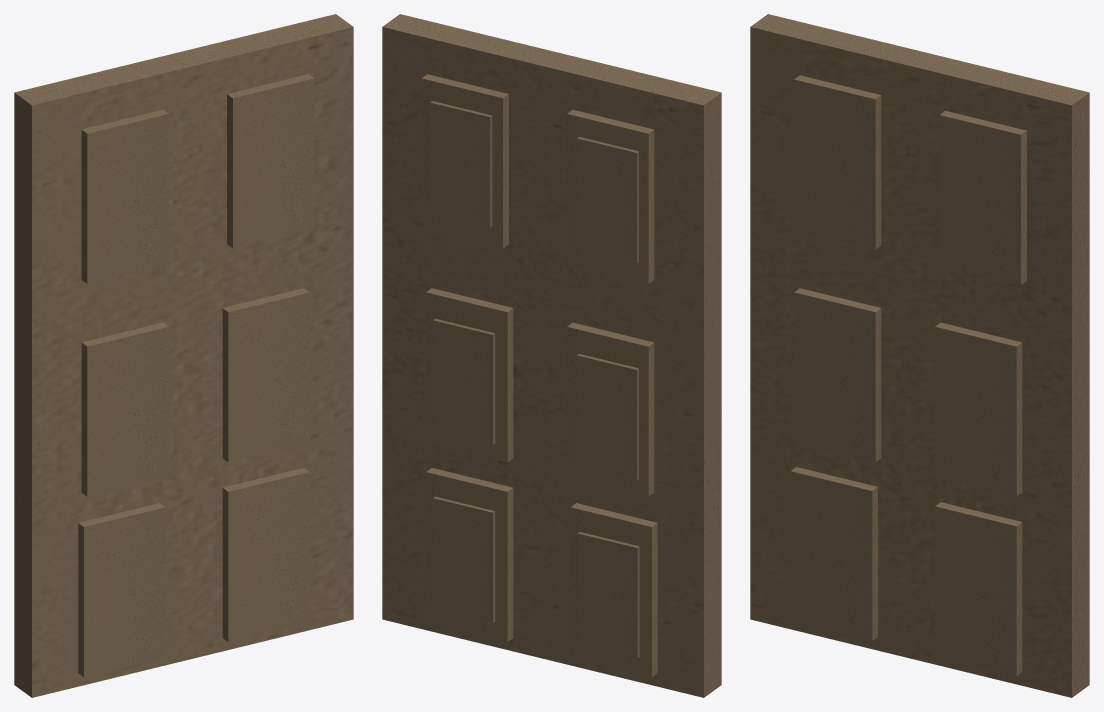
Rendered from porta.obj.
3 views of the same model, side by side, from view 1: azimuth 30°, elevation 25°; view 2: azimuth 150°, elevation 25°; view 3: azimuth 330°, elevation 25° (orthographic).
Visible parts, largest first — view 1: Cubo.007; view 2: Cubo.007; view 3: Cubo.007.
Part boxes in pixels (left/top/right/bottom): Cubo.007: left=14, top=14, right=353, bottom=697; Cubo.007: left=382, top=14, right=721, bottom=697; Cubo.007: left=750, top=14, right=1089, bottom=697.
Bounding box in the file's own units: 1.49 × 2.62 × 0.2527.
